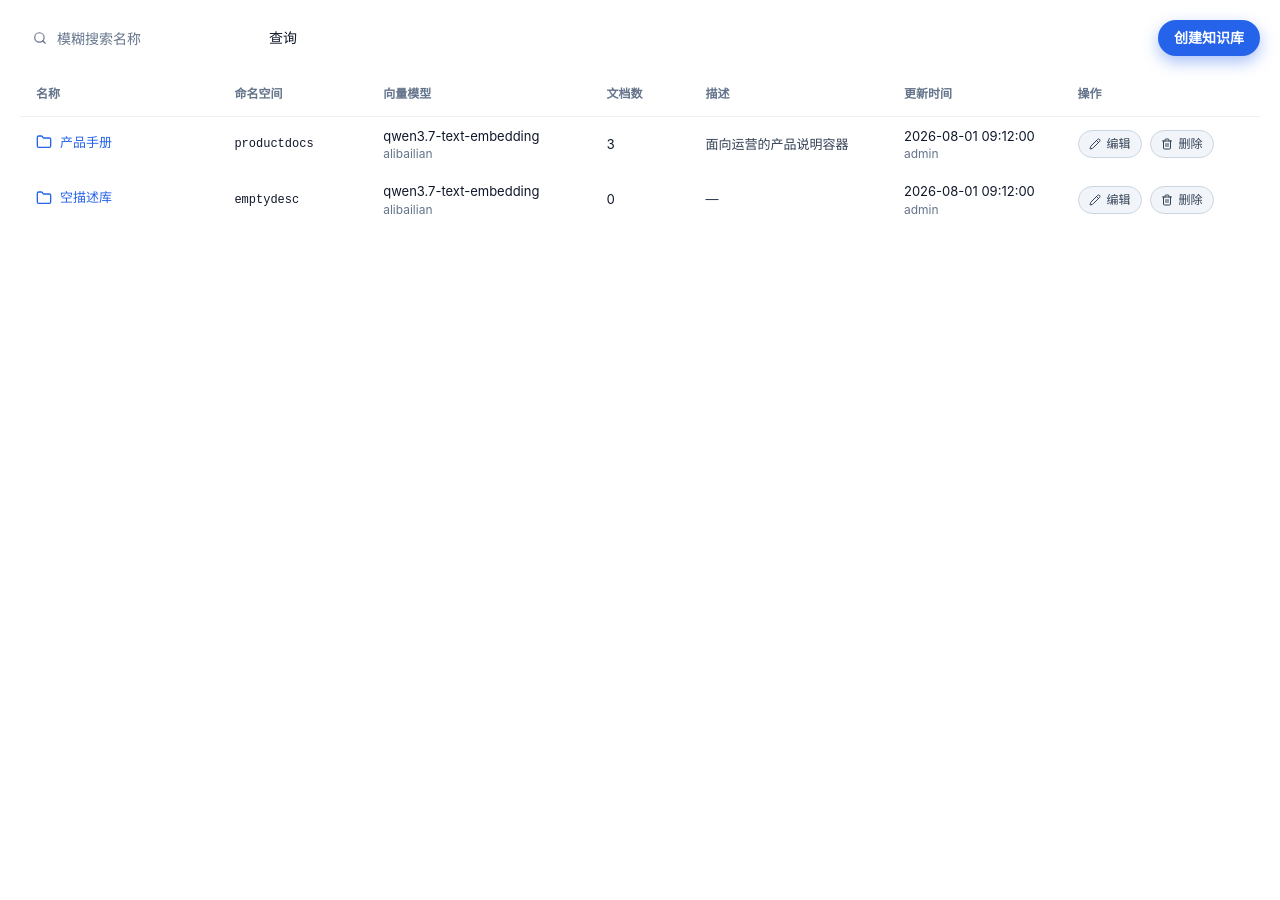
Test: KnowledgeBasesPage › shows hard-delete copy and keeps dialog on A002008
This screenshot has width=1280, height=900.
expect the text "空描述库" is shown: met, box 60,188 -> 112,208
// 空库可打开 O-07；列表未刷新时后端仍可能返回 A002008（O-07a 兜底）。
Click the button "删除" in the row of "空描述库". click: (1182, 200)
box: 1150,186 -> 1214,214
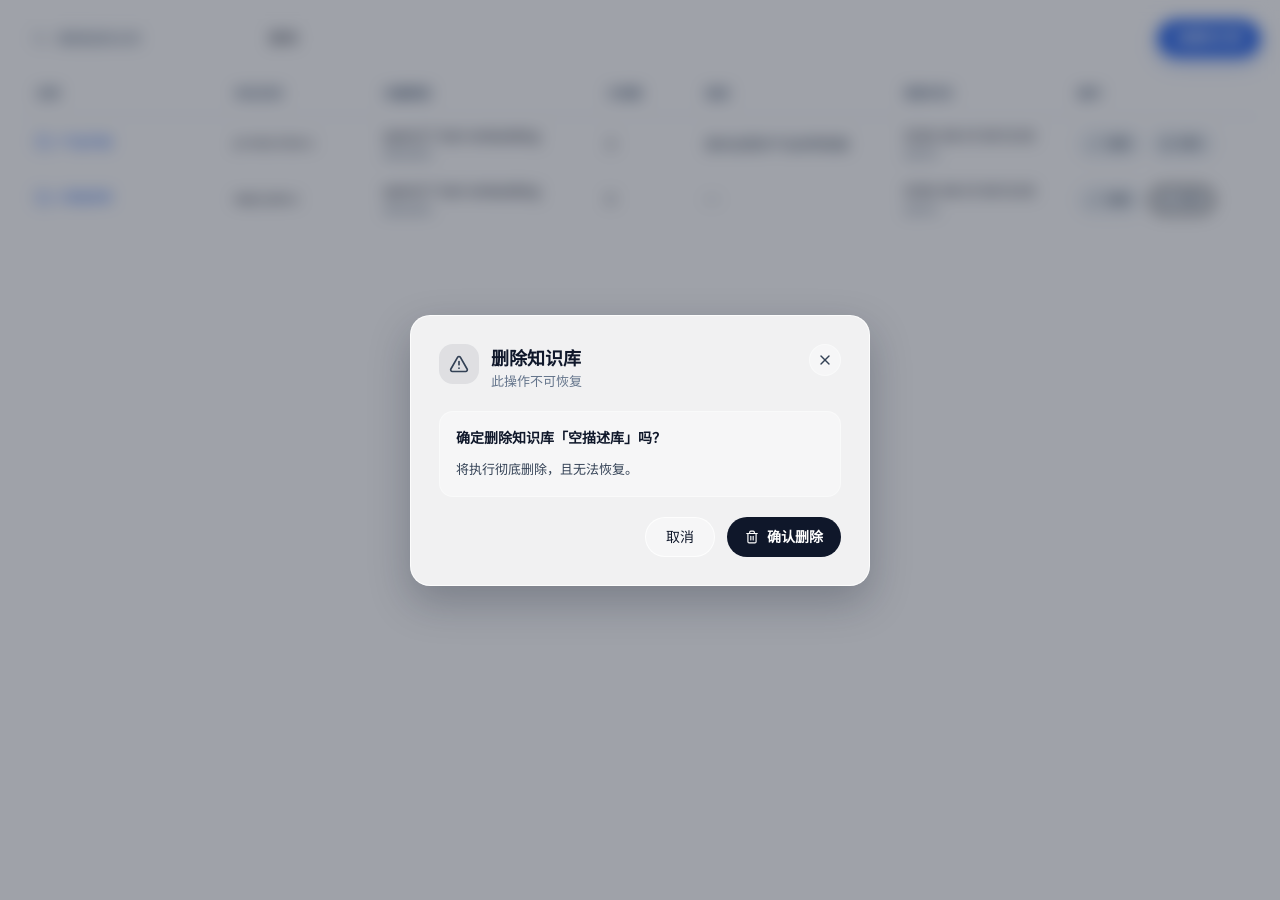
expect the text "将执行彻底删除，且无法恢复。" is shown: met, box 456,461 -> 638,477
Click the button "确认删除". click: (784, 536)
box: 727,516 -> 841,556
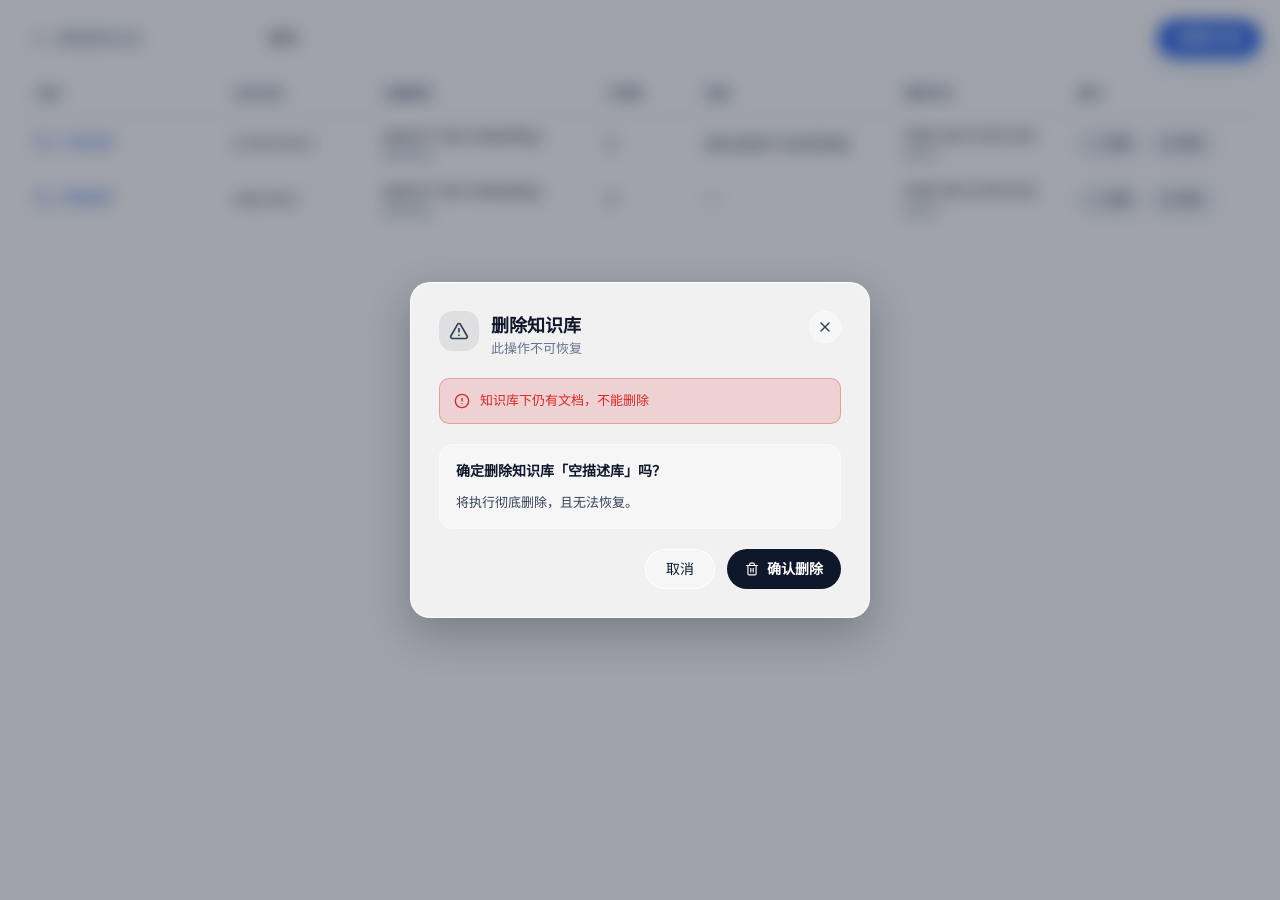
expect the dialog "删除知识库" is shown: met, box 410,282 -> 870,618
expect the message reads "知识库下仍有文档，不能删除": met, box 480,392 -> 649,408
